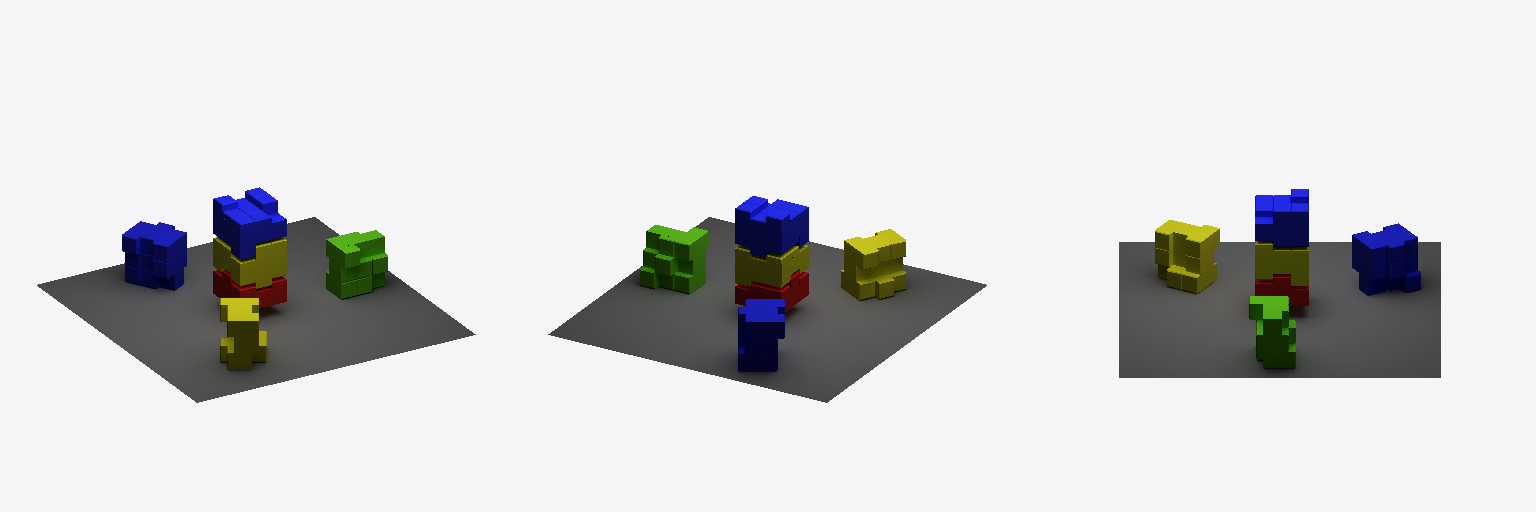
3 renders of one model, left to right at view 1: azimuth 30°, elevation 25°; view 2: azimuth 150°, elevation 25°; view 3: azimuth 270°, elevation 25°, orthographic.
Parts seen in each view (by area): view 1: object_7.002; view 2: object_7.002; view 3: object_7.002.
Boxes of the visible parts, <box> form: object_7.002: <box>37,187,475,402</box>; object_7.002: <box>548,196,986,402</box>; object_7.002: <box>1119,189,1440,377</box>.
Bounding box in the file's own units: 89.3 × 32.96 × 89.3.
Materials: 2 (2 with a texture image).